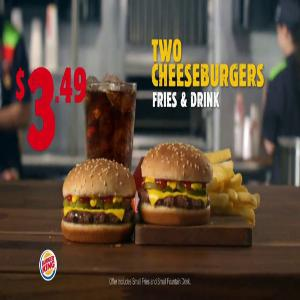cheeseburger_475cal: (61, 136, 134, 241), (139, 135, 212, 221)
